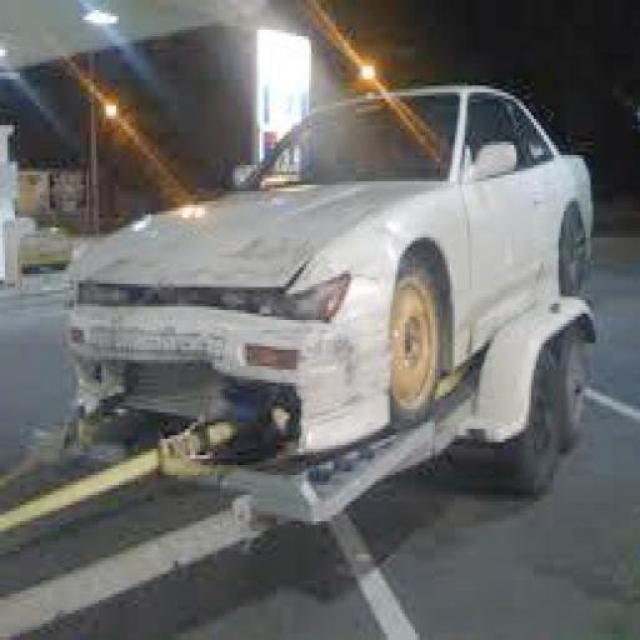car damage: (73, 242, 391, 458)
